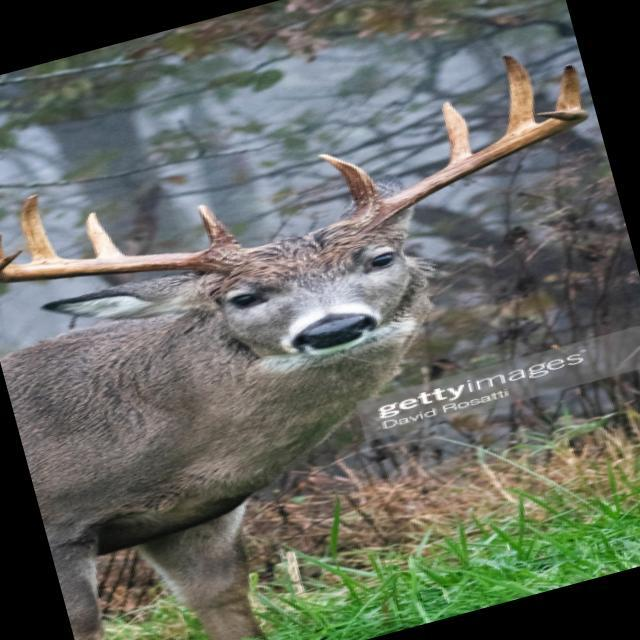L-G1: (316, 152, 383, 209)
L-G2: (440, 99, 472, 163)
L-G3: (502, 54, 537, 136)
L-G4: (546, 64, 582, 120)
L-R: (336, 108, 590, 236)
R-F: (0, 248, 252, 283)
R-G1: (197, 204, 241, 249)
R-G2: (84, 211, 125, 258)
R-G3: (21, 193, 58, 262)
